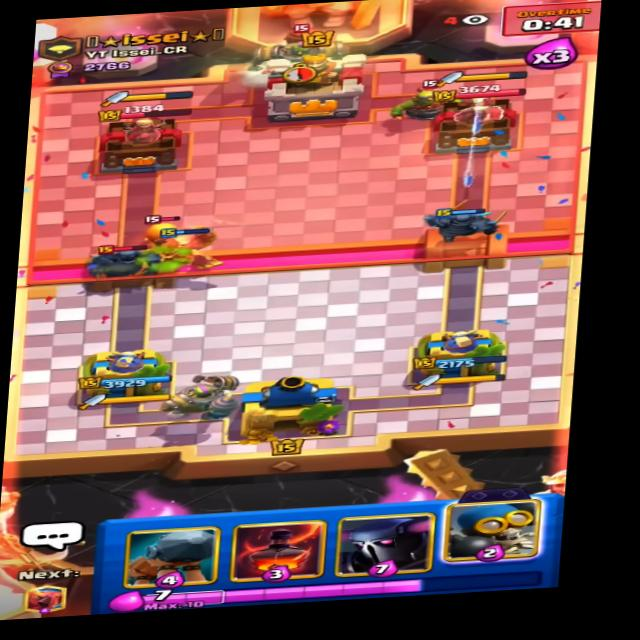goblin-demolisher: (389, 75, 469, 128)
goblin-machine: (246, 18, 355, 80)
pekka: (73, 234, 165, 281)
phoenix-egg: (139, 213, 184, 249)
